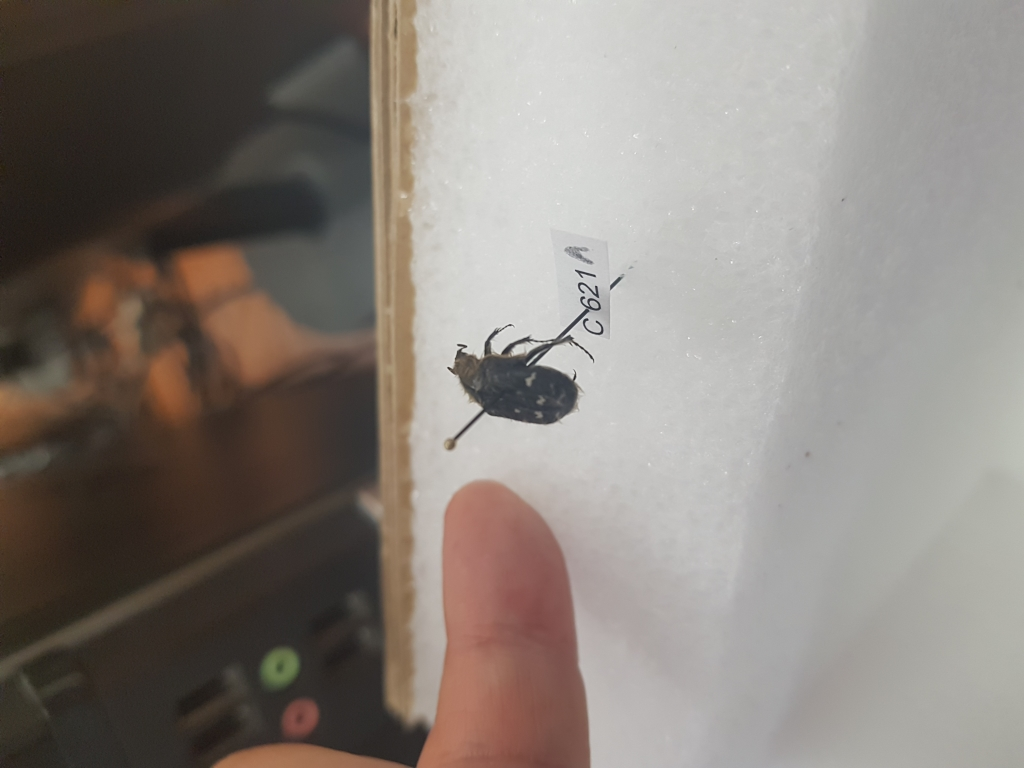Tropinota_senicula: (443, 319, 601, 429)
